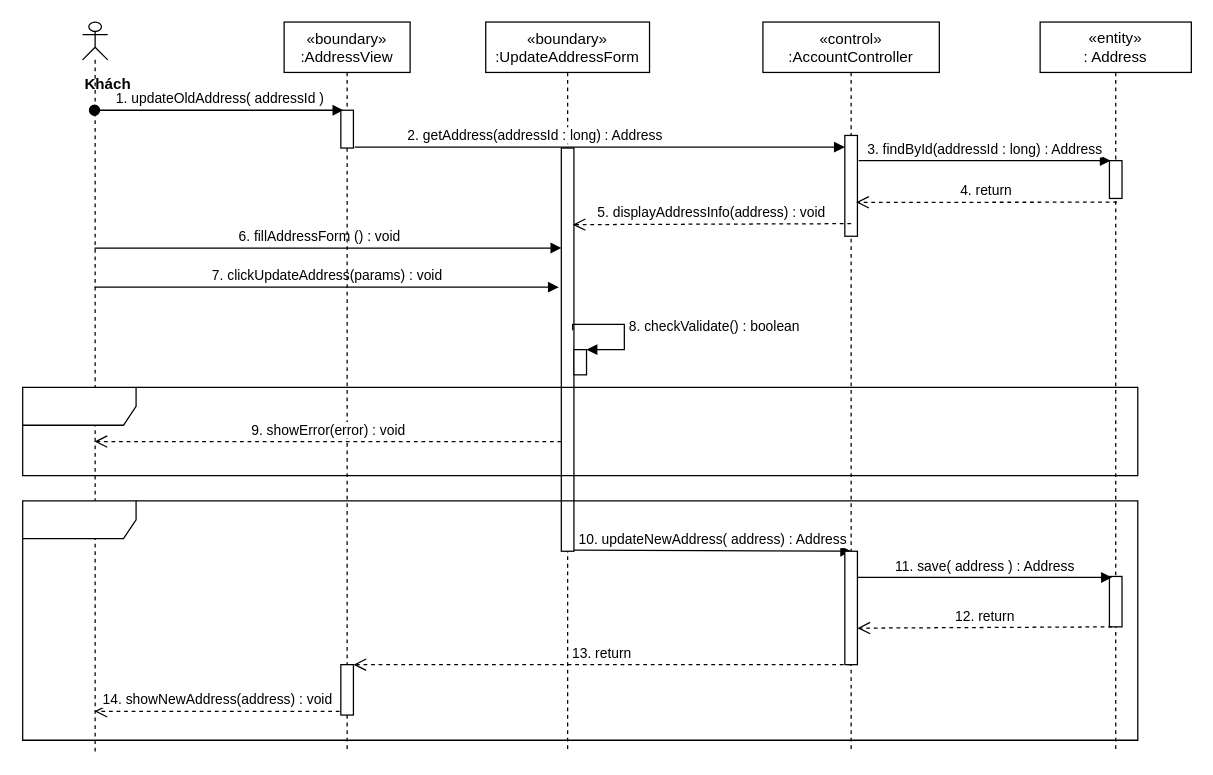
The diagram is 1213 pixels wide and 775 high, and some of its shapes have lost their labels. Each missing label, with the centre of its shape:
"validate false" belongs at (x=579, y=431).
"validate true" belongs at (x=579, y=620).
